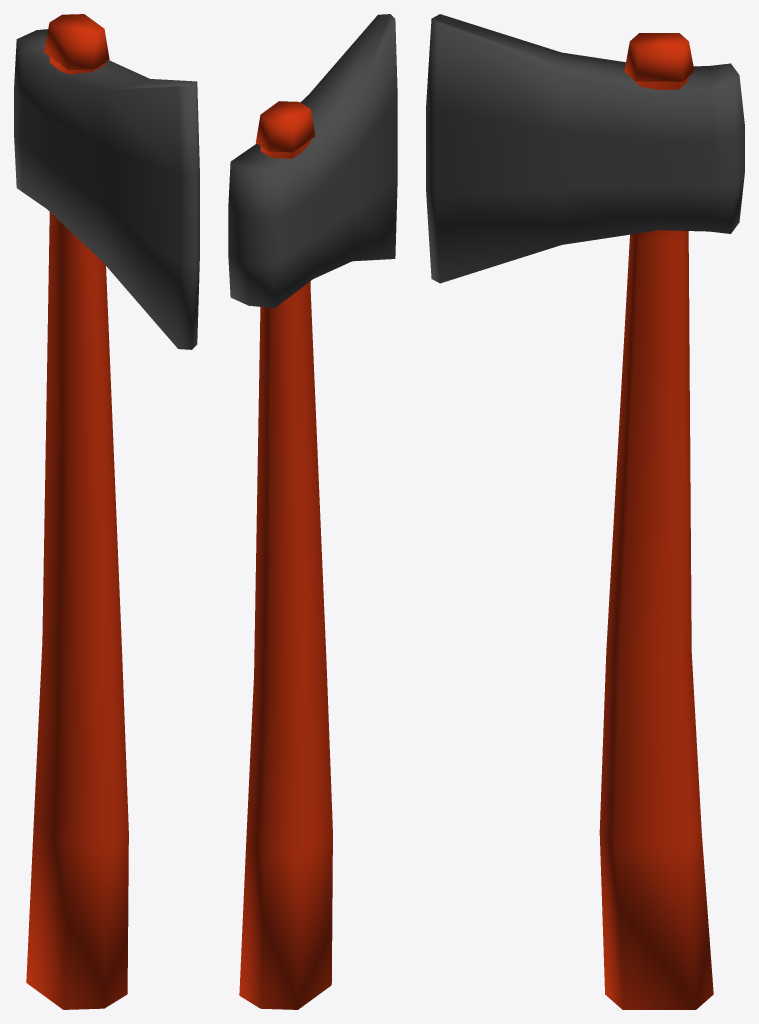
The model's file is axe.obj.
3 views of the same model, side by side, from view 1: azimuth 30°, elevation 25°; view 2: azimuth 150°, elevation 25°; view 3: azimuth 270°, elevation 25° (orthographic). The views are drawn at different scales.
Visible parts, largest first — view 1: Axe_Cube; view 2: Axe_Cube; view 3: Axe_Cube.
Part boxes in pixels (<box>): Axe_Cube: <box>14,14,199,1009</box>; Axe_Cube: <box>228,14,397,1009</box>; Axe_Cube: <box>426,14,744,1009</box>.
Bounding box in the file's own units: 0.0947 × 1.39 × 0.411.
